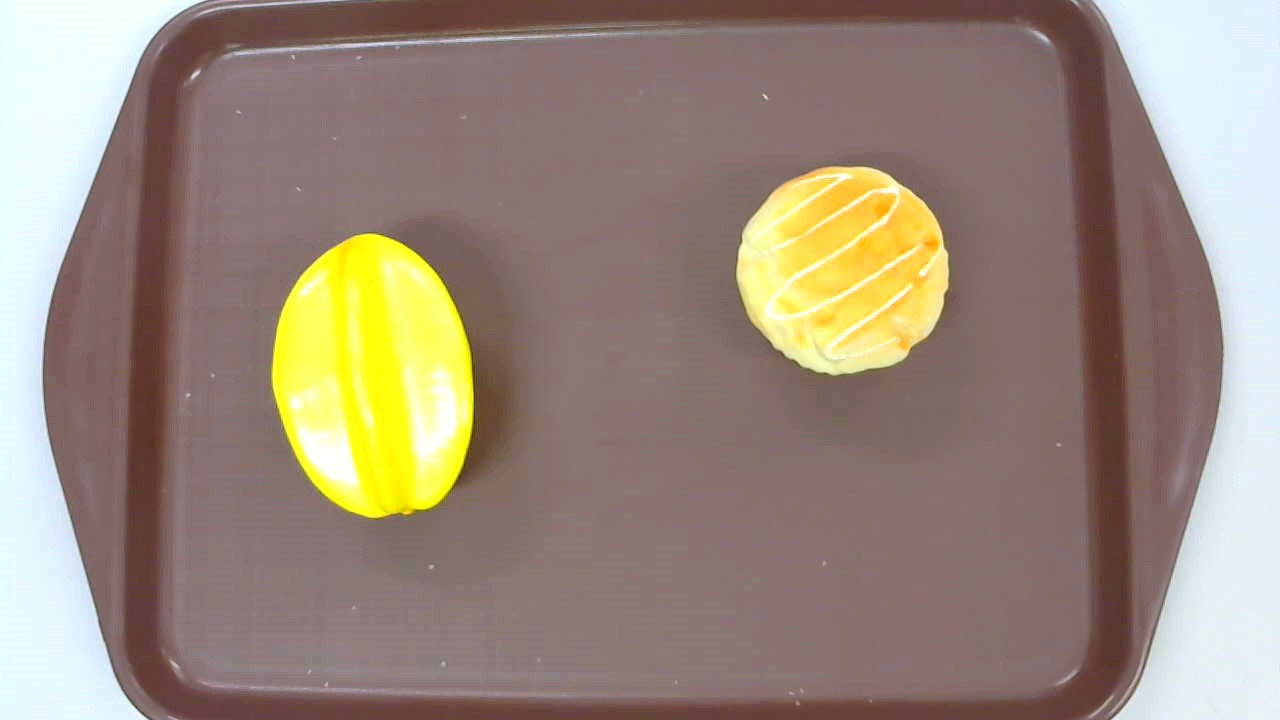cupcake: (737, 165, 948, 377)
star fruit: (270, 233, 473, 517)
